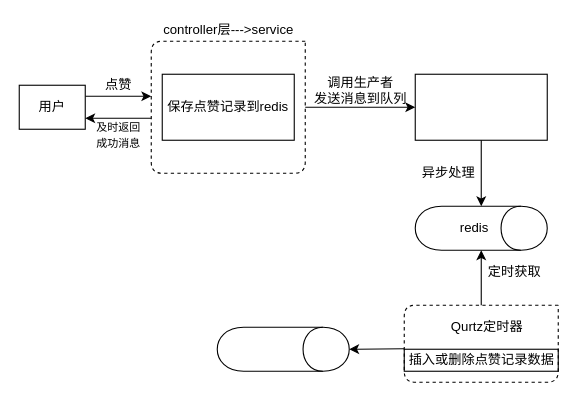
The diagram is 583 pixels wide and 403 high, and some of its shapes have lost their labels. The shapes that lost their labels are listed below. From the top down, each one's centre as x and y in pixels, then its label:
At point 480,106: "mq消费者".
At point 282,348: "数据库".
